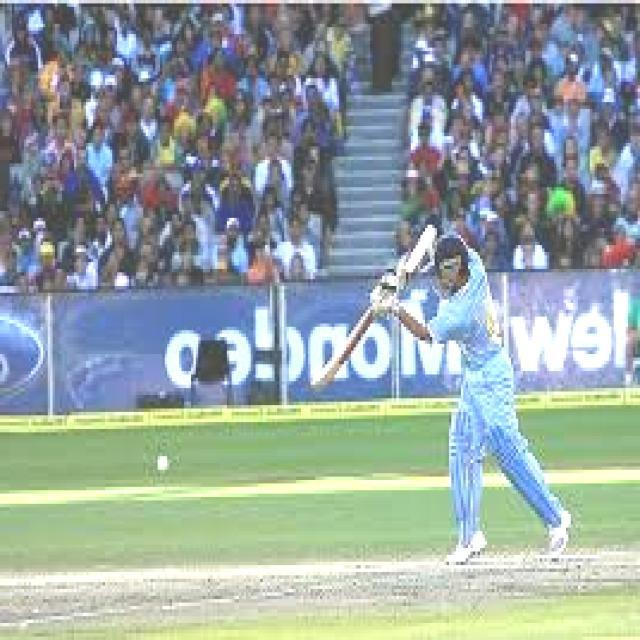bat: (296, 303, 378, 401)
toe: (303, 370, 331, 394)
